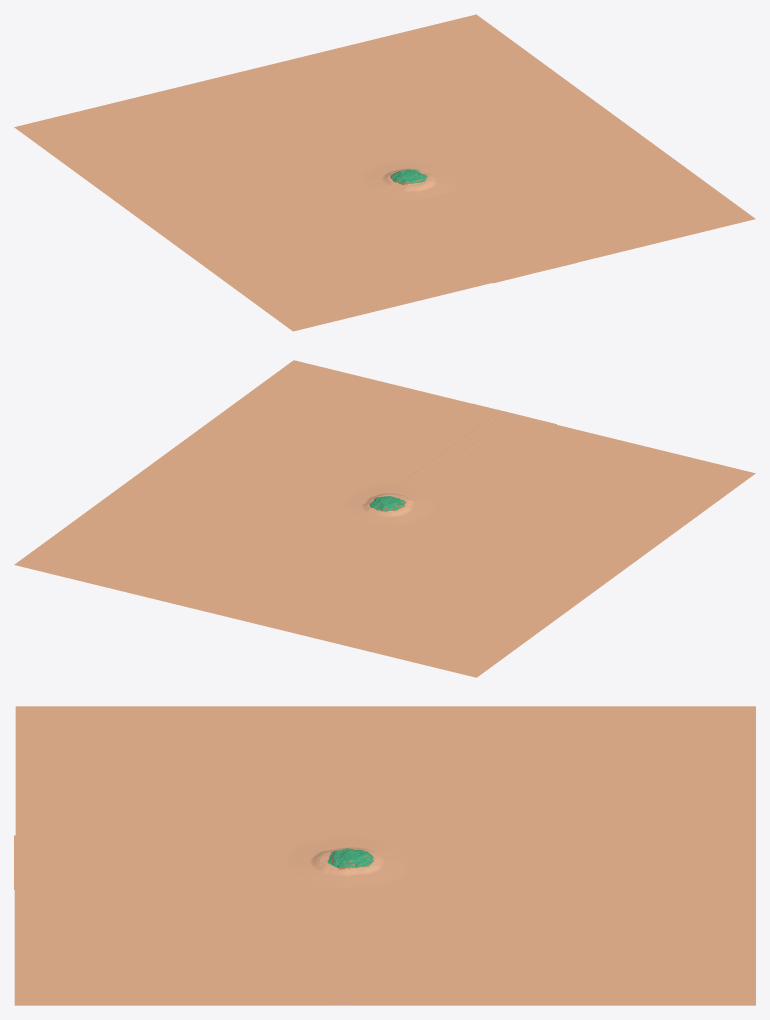
File: terrain2.glb
The picture shows the model from 3 angles, top to bottom: view 1: azimuth 30°, elevation 25°; view 2: azimuth 150°, elevation 25°; view 3: azimuth 270°, elevation 25°; orthographic projection. The views are drawn at different scales.
Parts seen in each view (by area): view 1: Landscape; view 2: Landscape; view 3: Landscape.
Boxes of the visible parts, bbox=[...] form: Landscape: bbox=[14, 14, 755, 331]; Landscape: bbox=[14, 360, 755, 677]; Landscape: bbox=[14, 706, 755, 1005].
Bounding box in the file's own units: 43.74 × 0.5323 × 45.84.
